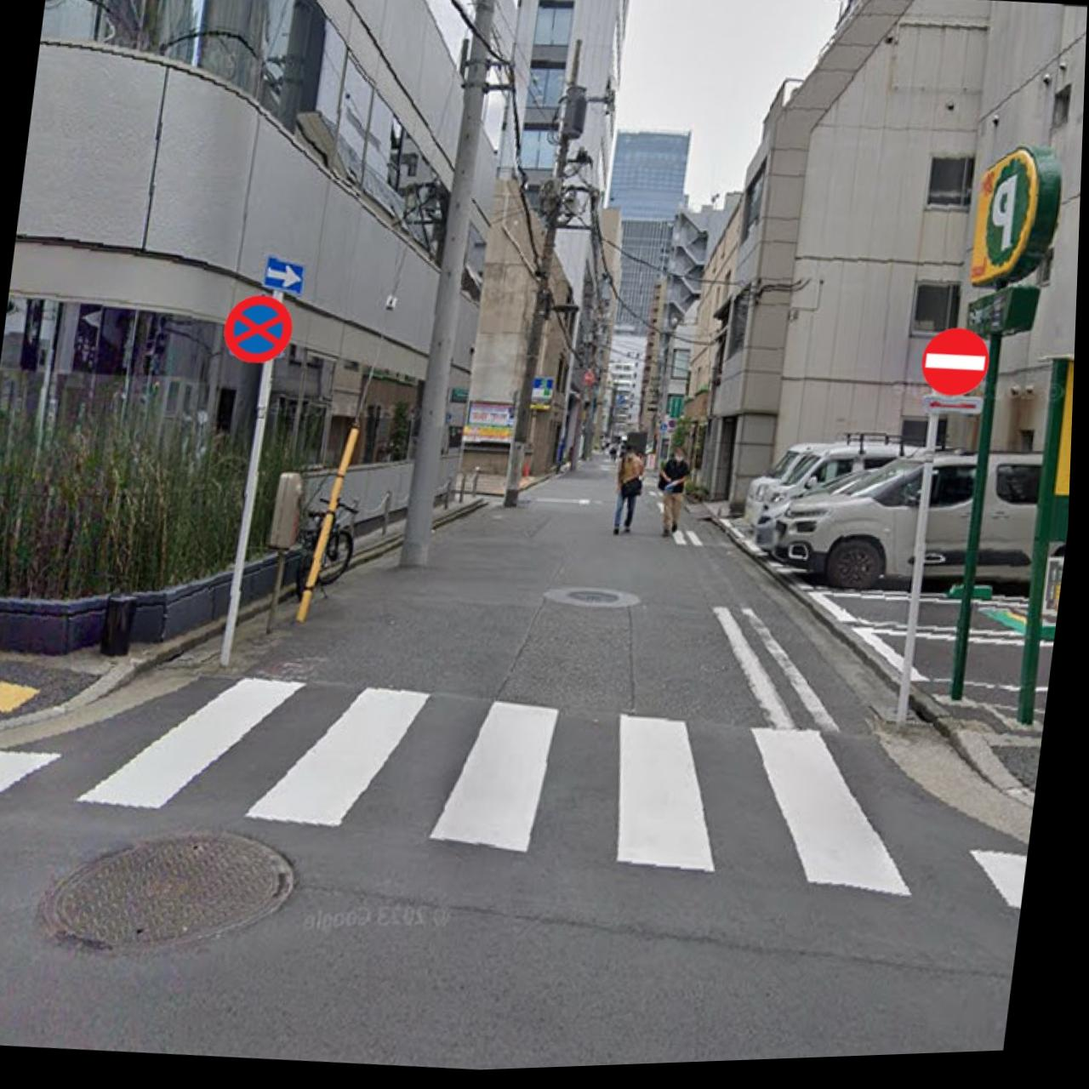barrier: (918, 324, 992, 401)
stop_sign: (220, 290, 297, 368)
